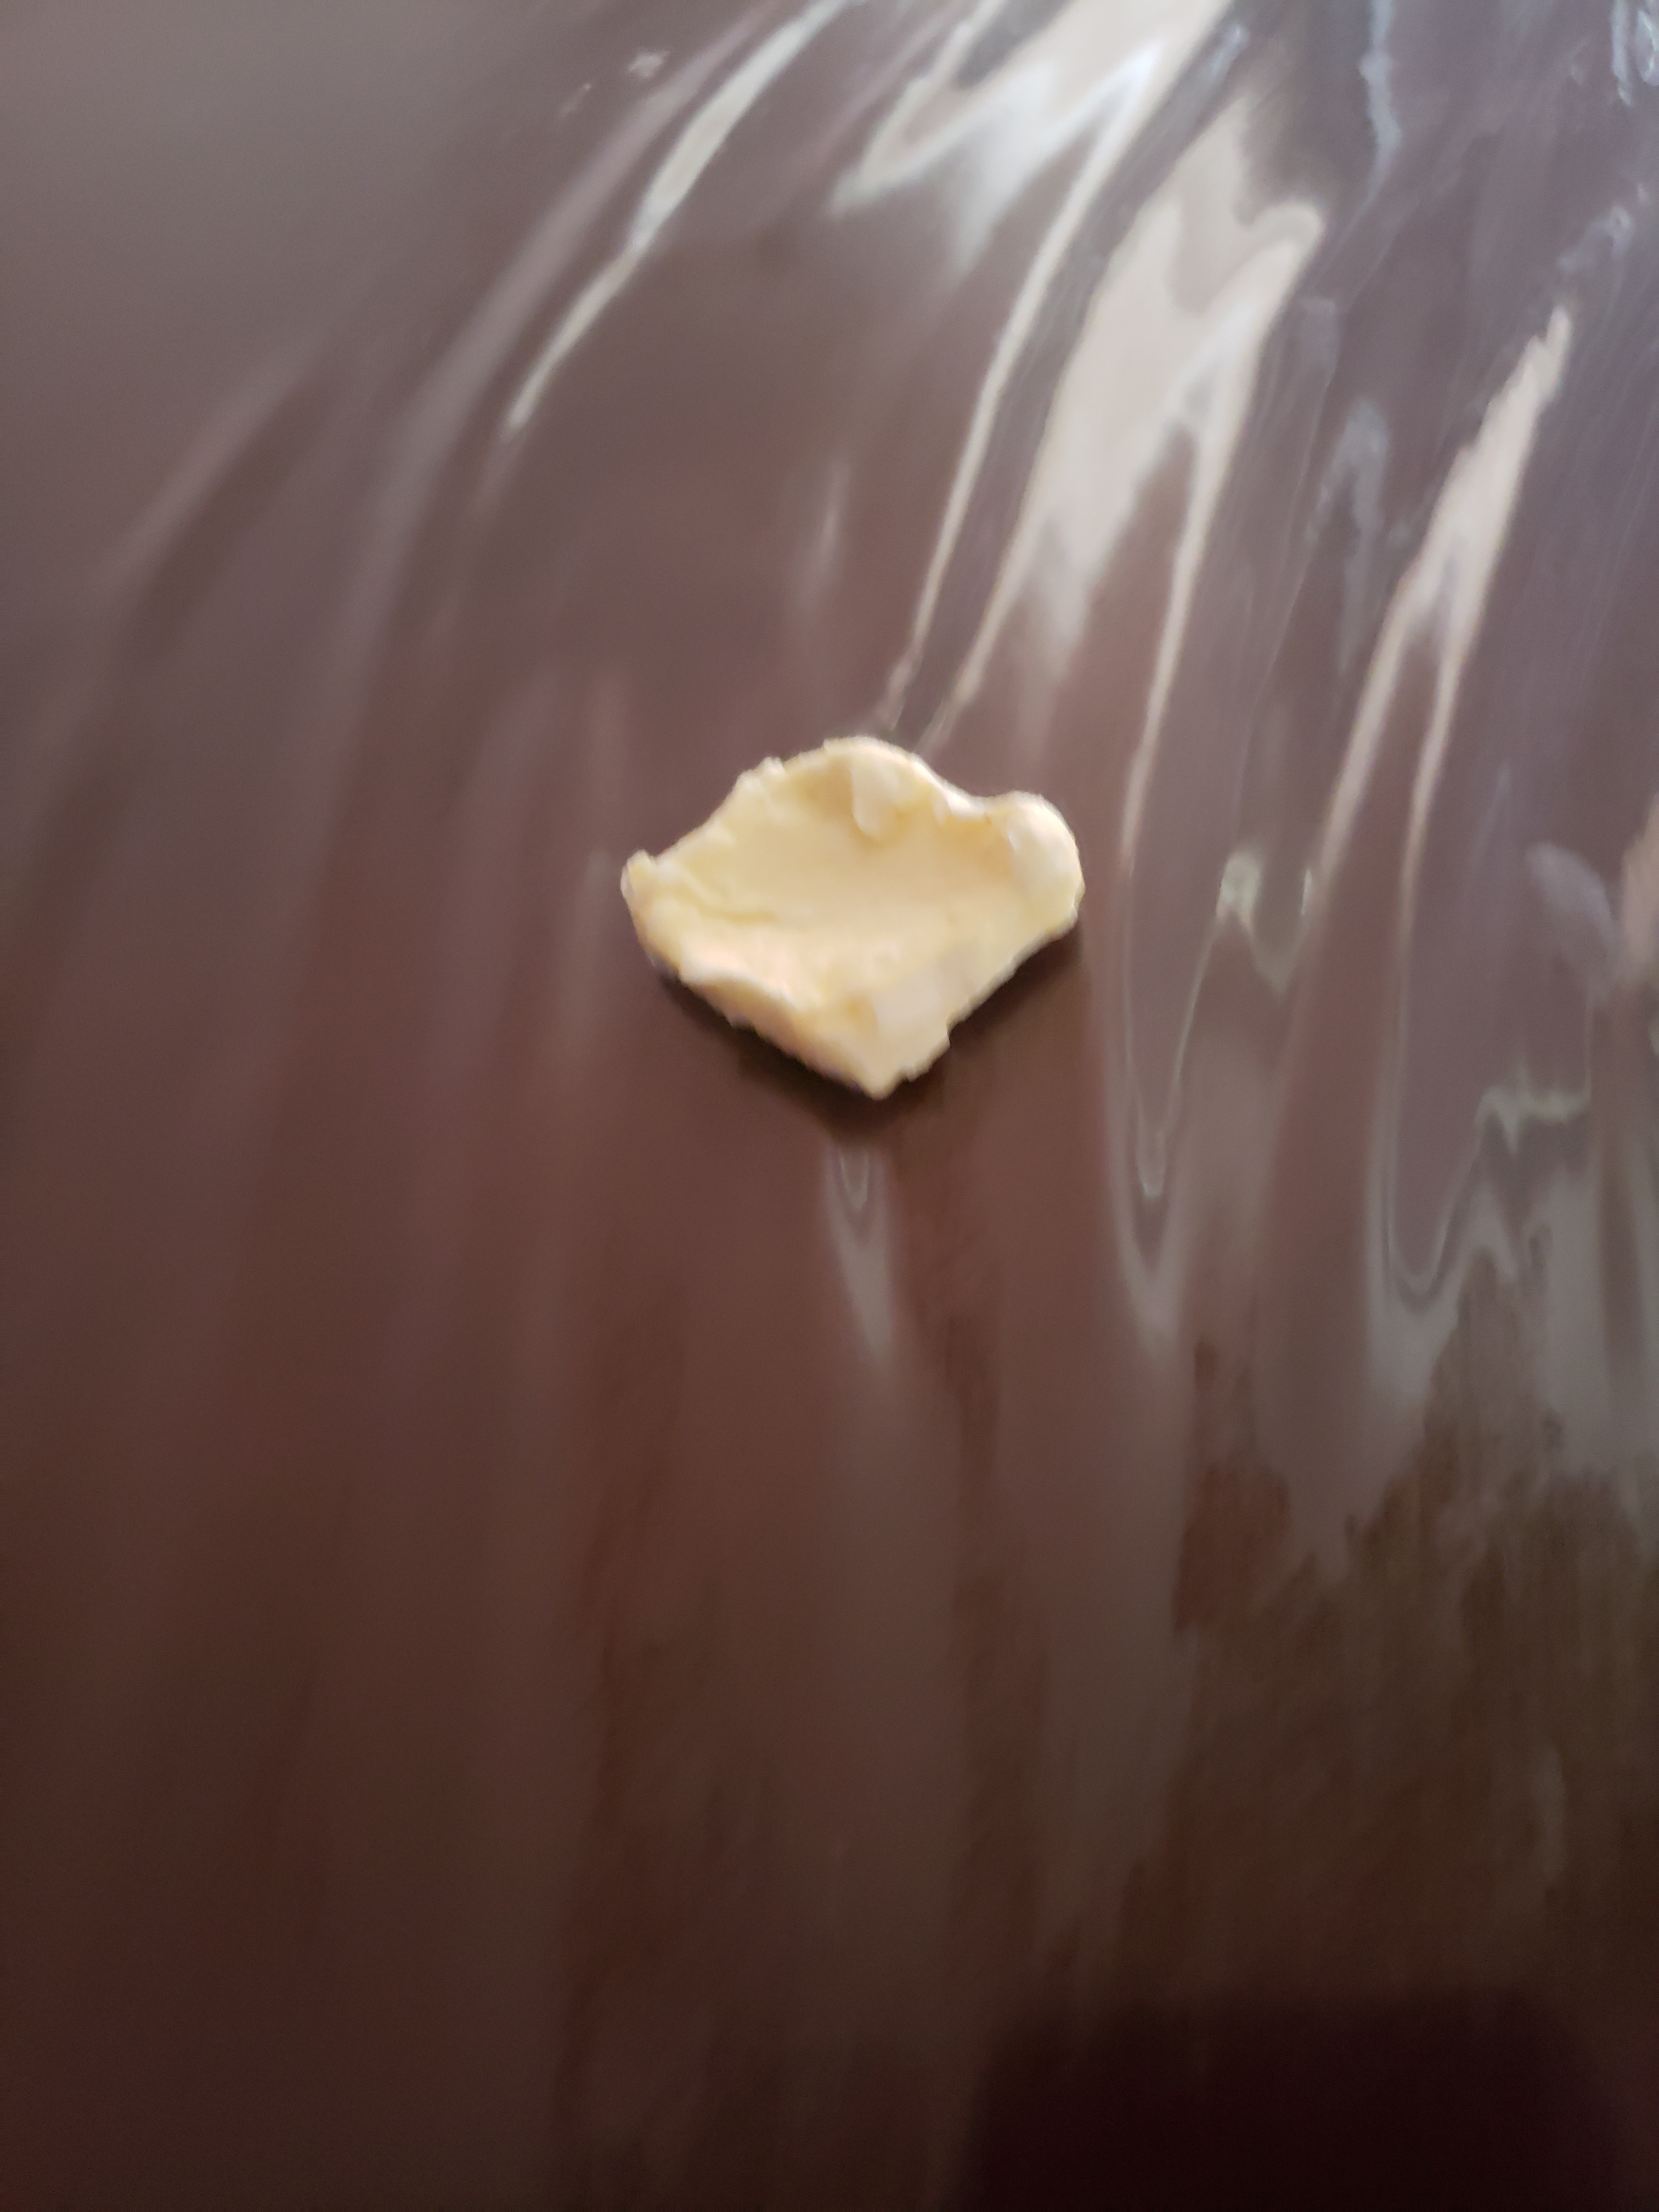Butter: (626, 737, 1075, 1099)
